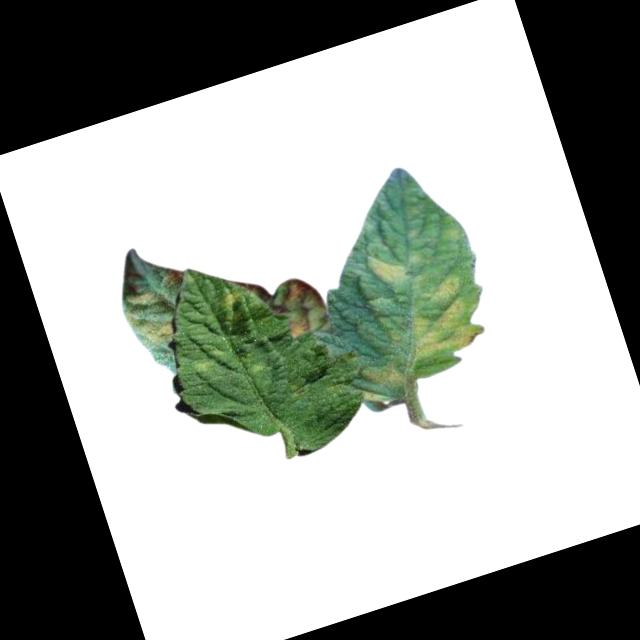Leaf_Mold: (385, 268, 490, 370), (265, 271, 332, 343), (118, 282, 182, 353), (351, 351, 407, 399), (360, 243, 411, 294), (209, 281, 255, 332)
